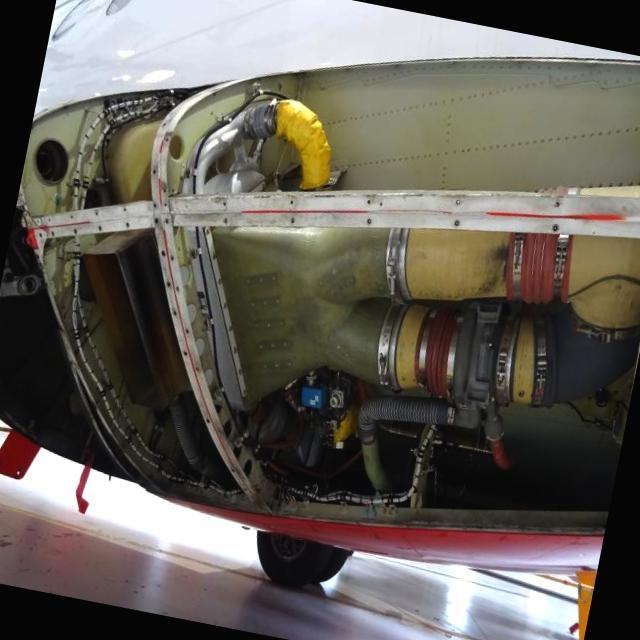Missing Fastener: (446, 188, 468, 210), (547, 219, 565, 238), (360, 193, 379, 210), (284, 208, 298, 230), (360, 210, 376, 229), (286, 190, 300, 210), (548, 195, 564, 211), (170, 279, 186, 294), (218, 192, 230, 211), (168, 304, 182, 320), (119, 199, 133, 215), (70, 224, 83, 240), (192, 362, 205, 377), (182, 322, 194, 338), (164, 276, 176, 292), (451, 214, 464, 228), (145, 200, 160, 212), (160, 215, 172, 229), (46, 228, 58, 242), (179, 345, 190, 360), (220, 214, 232, 227), (150, 215, 162, 228), (162, 131, 174, 144), (122, 219, 134, 232), (160, 184, 172, 196), (203, 414, 214, 426), (94, 223, 105, 235), (160, 117, 170, 130), (169, 250, 178, 264), (214, 427, 224, 439), (36, 228, 46, 240), (66, 211, 76, 222), (149, 166, 158, 176), (44, 215, 54, 224), (160, 248, 168, 258), (34, 216, 42, 226), (93, 208, 100, 217), (230, 468, 238, 475), (162, 200, 168, 208), (24, 211, 30, 217), (26, 220, 32, 226), (22, 216, 26, 223)
